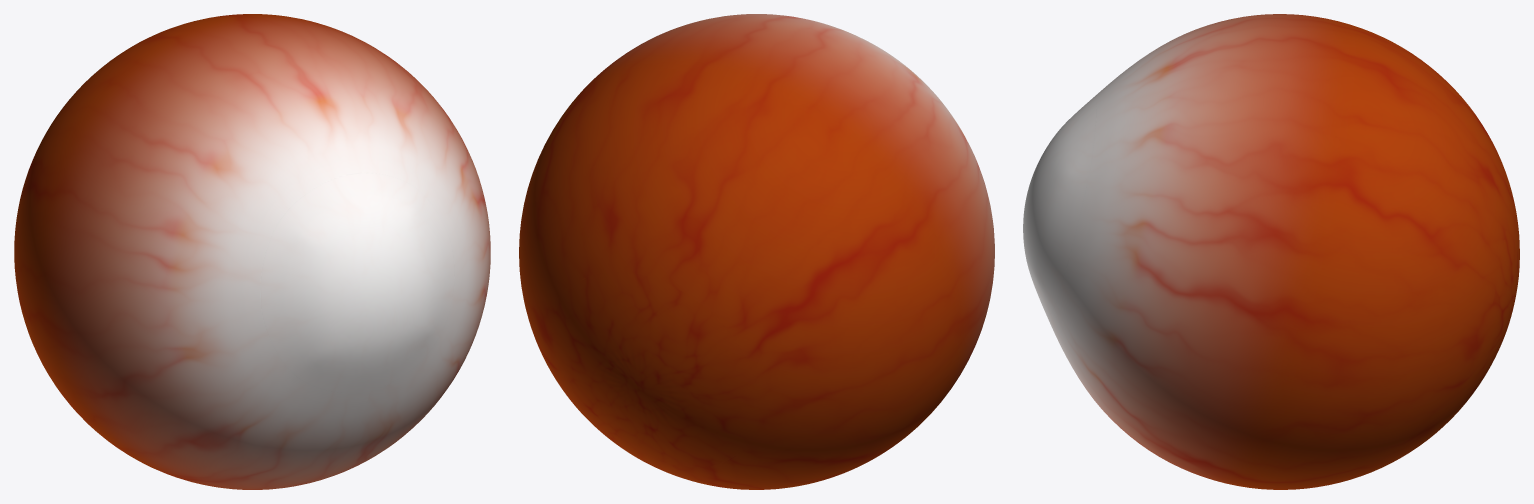
The model's file is red_eye.glb.
The picture shows the model from 3 angles, left to right: view 1: azimuth 30°, elevation 25°; view 2: azimuth 150°, elevation 25°; view 3: azimuth 270°, elevation 25°; orthographic projection.
Parts seen in each view (by area): view 1: Eye; view 2: Eye; view 3: Eye.
Boxes of the visible parts, box(x1,y1,x2,y2) form: Eye: box(14, 14, 490, 489); Eye: box(519, 14, 994, 489); Eye: box(1023, 14, 1519, 489).
Size of the model in its own units: 1.95 by 1.95 by 2.04.
2 materials, 2 textured.
